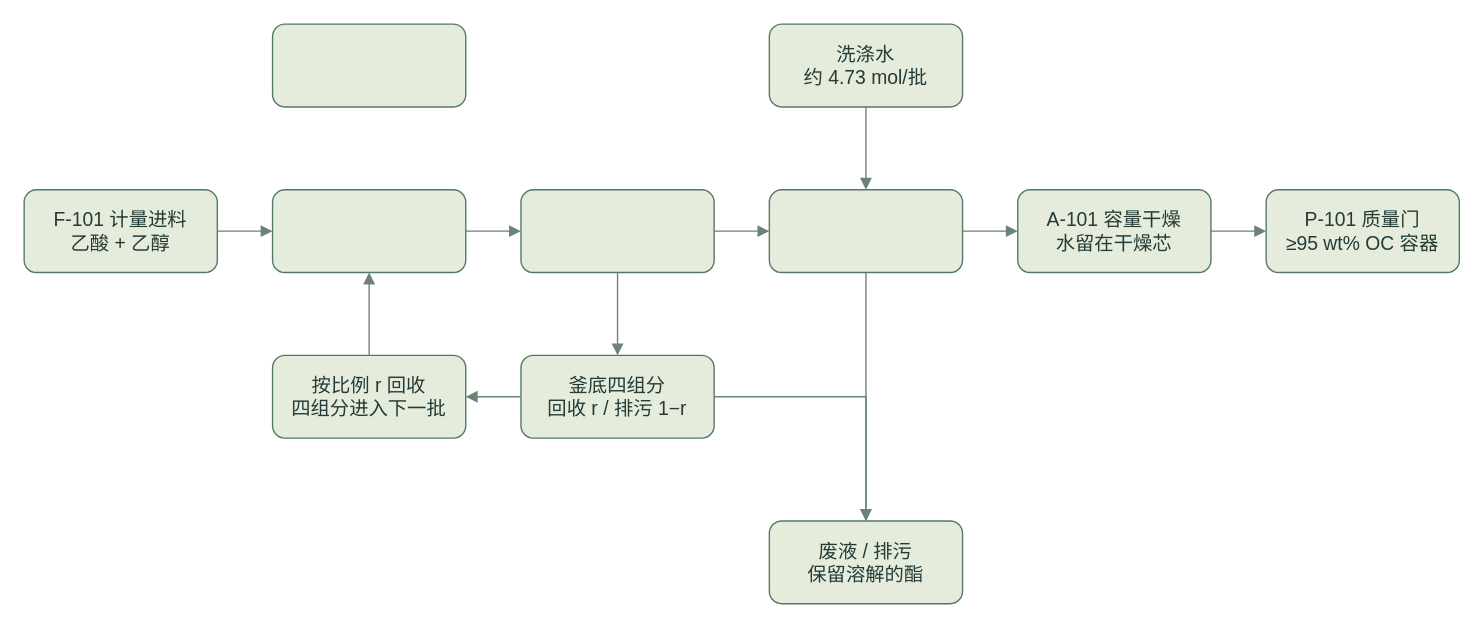
Some shapes in this 1484 by 628 pixel diagram are drawn without their labels. The centre of each missing label's shape, as x and y in pixels:
"D/E-101 蒸馏冷凝 80 kPa / 单平衡级" goes at point 617,230.
"R-101 批式反应 345 K / 酸催化" goes at point 368,230.
"W-101 水洗分相 298.15 K / 8 次" goes at point 865,230.
"全线累计热 / 冷却 58.52 / 60.56 kJ" goes at point 368,65.
